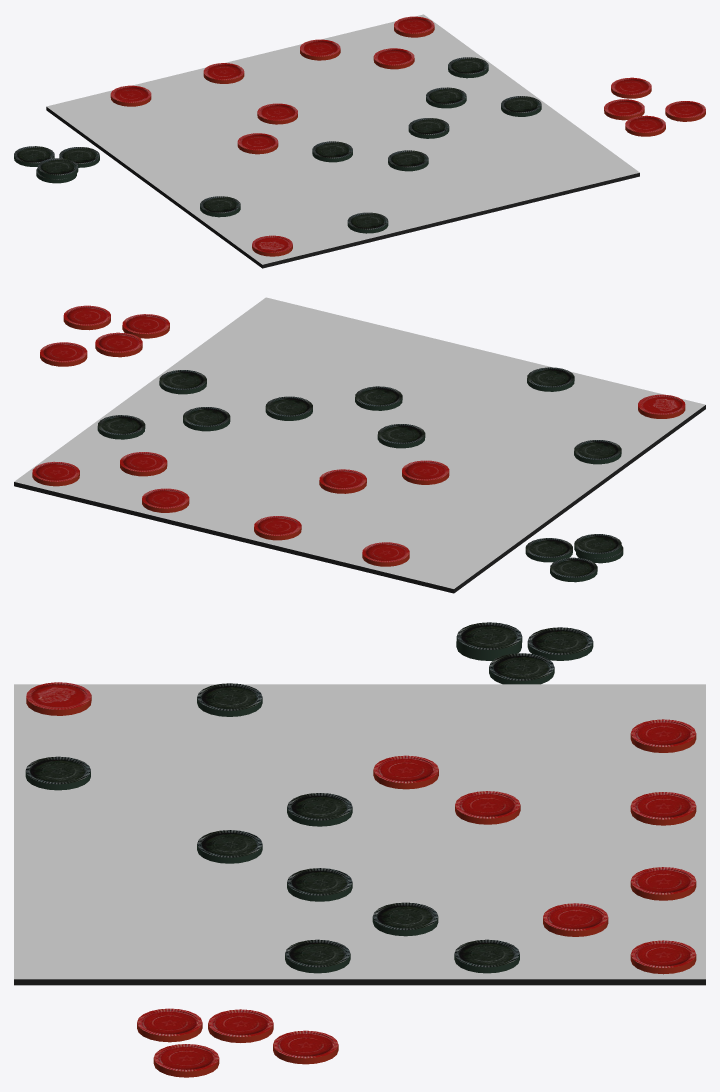
The model's file is Checkers.fbx.
The picture shows the model from 3 angles, top to bottom: view 1: azimuth 30°, elevation 25°; view 2: azimuth 150°, elevation 25°; view 3: azimuth 270°, elevation 25°; orthographic projection. The views are drawn at different scales.
Parts seen in each view (by area): view 1: pCube1, polySurface38, polySurface49, polySurface41, polySurface36, polySurface46, polySurface47, polySurface60, polySurface52, polySurface59, polySurface39, polySurface40 (+12 smaller); view 2: pCube1, polySurface57, polySurface48, polySurface49, polySurface56, polySurface60, polySurface38, polySurface43, polySurface52, polySurface54, polySurface36, polySurface39 (+12 smaller); view 3: pCube1, polySurface46, polySurface49, polySurface40, polySurface42, polySurface55, polySurface59, polySurface47, polySurface48, polySurface51, polySurface56, polySurface36 (+12 smaller).
Part boxes in pixels (x1,y1,x2,y2): pCube1: (46, 14, 639, 268); polySurface38: (347, 212, 388, 233); polySurface49: (110, 85, 151, 106); polySurface41: (373, 48, 414, 69); polySurface36: (237, 133, 278, 154); polySurface46: (300, 39, 340, 60); polySurface47: (394, 16, 434, 37); polySurface60: (312, 141, 352, 162); polySurface52: (388, 150, 428, 171); polySurface59: (426, 87, 466, 108); polySurface39: (611, 77, 651, 98); polySurface40: (257, 103, 297, 124); pCube1: (14, 297, 705, 593); polySurface57: (97, 415, 145, 439); polySurface48: (254, 516, 301, 540); polySurface49: (362, 542, 409, 566); polySurface56: (574, 440, 621, 464); polySurface60: (377, 424, 425, 448); polySurface38: (527, 367, 574, 391); polySurface43: (95, 332, 142, 357); polySurface52: (355, 386, 402, 410); polySurface54: (550, 557, 597, 582); polySurface36: (402, 460, 449, 484); polySurface39: (40, 342, 87, 366); pCube1: (14, 684, 705, 985); polySurface46: (630, 867, 696, 900); polySurface49: (630, 719, 696, 752); polySurface40: (455, 791, 520, 824); polySurface42: (153, 1044, 219, 1077); polySurface55: (456, 622, 522, 655); polySurface59: (372, 902, 438, 936); polySurface47: (630, 940, 696, 974); polySurface48: (630, 792, 696, 825); polySurface51: (287, 868, 352, 901); polySurface56: (197, 683, 262, 716); polySurface36: (373, 755, 438, 789).
Bounding box in the file's own units: 12.06 × 0.185 × 7.93.
